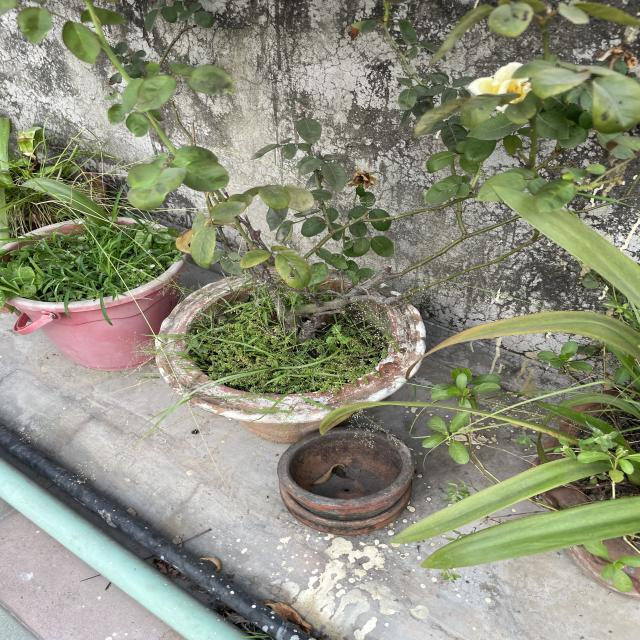Breeding Place: (163, 264, 426, 441), (0, 217, 170, 369), (545, 394, 640, 590), (278, 431, 419, 530)
